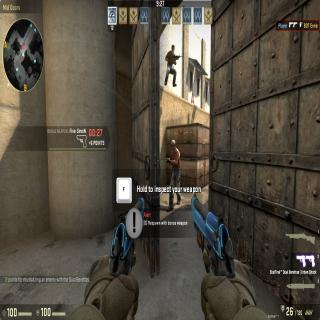T-Body: (167, 138, 182, 212), (164, 45, 176, 89)
T-Head: (169, 137, 178, 151), (170, 45, 175, 57)
